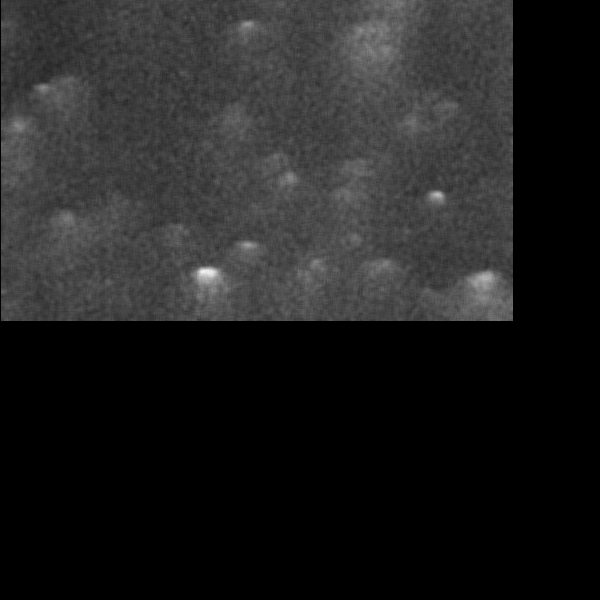spark: (343, 18, 425, 72), (459, 267, 506, 316), (190, 264, 231, 312), (52, 207, 83, 261), (26, 80, 74, 110), (2, 110, 34, 155), (277, 166, 306, 211), (363, 255, 402, 288), (233, 14, 261, 52), (232, 234, 262, 268), (421, 186, 450, 214)
